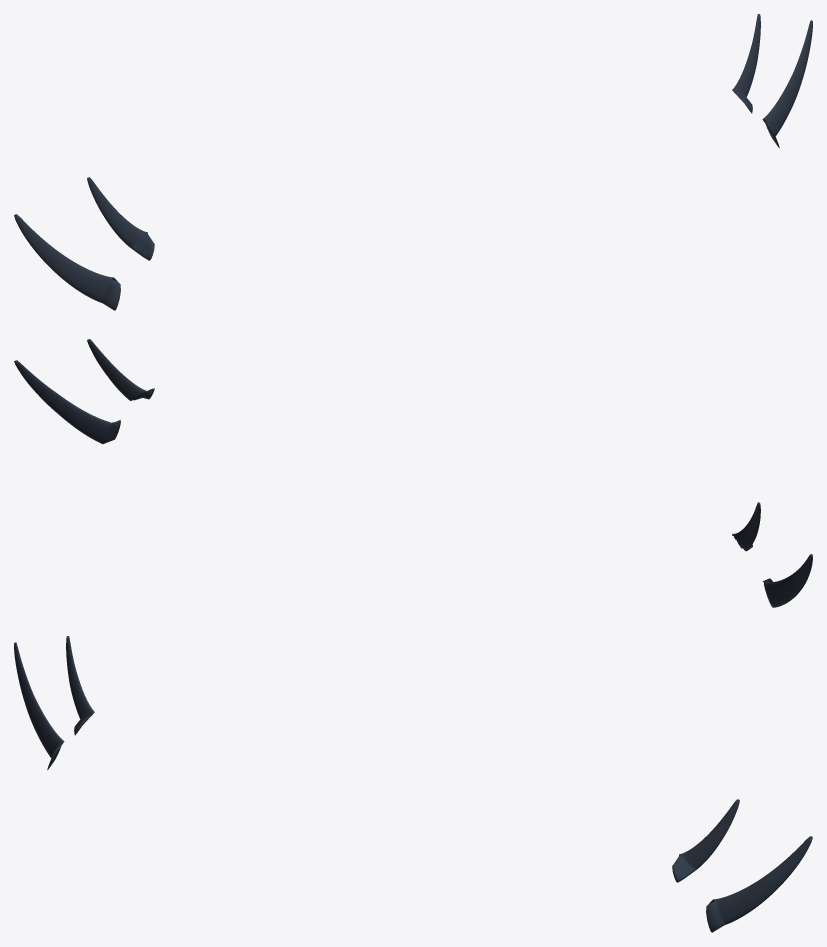
The model's file is Feminine-lashes264.glb.
The picture shows the model from 3 angles, top to bottom: view 1: azimuth 30°, elevation 25°; view 2: azimuth 150°, elevation 25°; view 3: azimuth 330°, elevation 25°; orthographic projection.
Visible parts, largest first — view 1: 226 eyelashes / Lashes / charcoal234; view 2: 226 eyelashes / Lashes / charcoal234; view 3: 226 eyelashes / Lashes / charcoal234.
Part boxes in pixels (x1=…): 226 eyelashes / Lashes / charcoal234: x1=14, y1=14, x2=812, y2=310; 226 eyelashes / Lashes / charcoal234: x1=14, y1=339, x2=812, y2=607; 226 eyelashes / Lashes / charcoal234: x1=14, y1=636, x2=812, y2=932.
Size of the model in its own units: 0.4575 by 0.064 by 0.0382.
